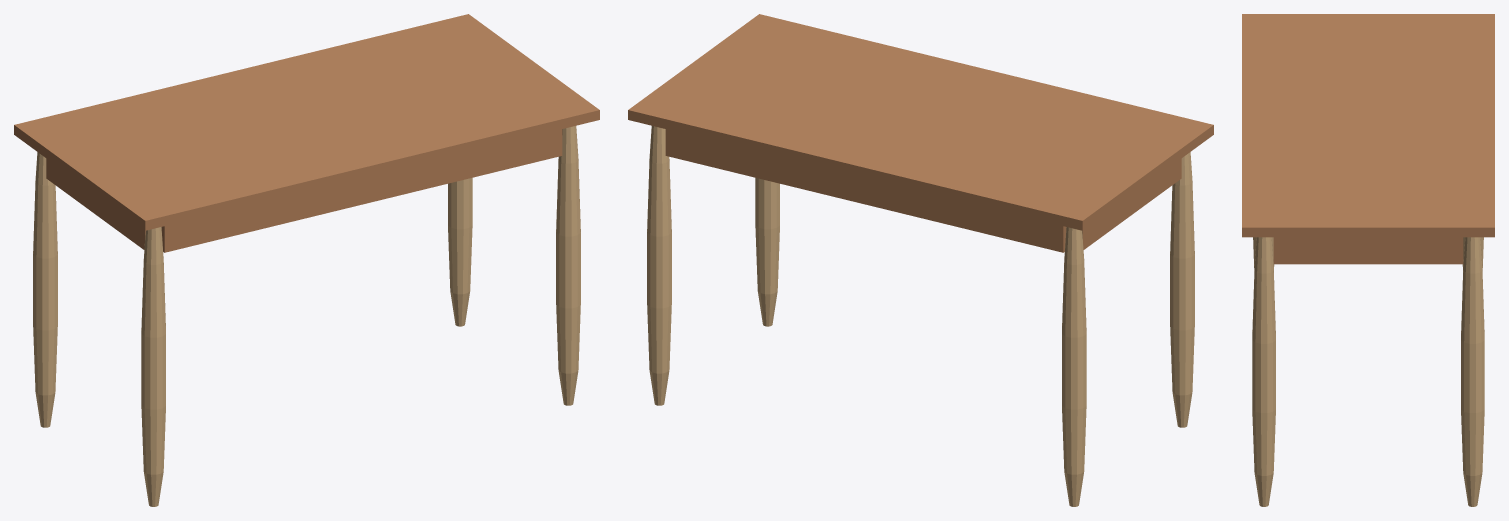
The model's file is CAL-DSK-std.glb.
3 views of the same model, side by side, from view 1: azimuth 30°, elevation 25°; view 2: azimuth 150°, elevation 25°; view 3: azimuth 270°, elevation 25° (orthographic). The views are drawn at different scales.
Parts seen in each view (by area): view 1: top:pbr, apron-f:pbr, leg-fl:pbr, leg-fr:pbr, leg-bl:pbr, leg-br:pbr, apron-l:pbr; view 2: top:pbr, apron-b:pbr, leg-bl:pbr, leg-br:pbr, leg-fl:pbr, leg-fr:pbr, apron-l:pbr; view 3: top:pbr, leg-fr:pbr, leg-br:pbr, apron-r:pbr.
Part boxes in pixels (x1,y1,x2,y2): top:pbr: (14,14,599,230); apron-f:pbr: (161,129,562,252); leg-fl:pbr: (141,227,165,506); leg-fr:pbr: (556,126,580,405); leg-bl:pbr: (33,152,57,427); leg-br:pbr: (448,177,472,326); apron-l:pbr: (46,158,145,249); top:pbr: (628,14,1213,230); apron-b:pbr: (665,129,1066,252); leg-bl:pbr: (1062,227,1086,506); leg-br:pbr: (647,126,671,405); leg-fl:pbr: (1170,152,1194,427); leg-fr:pbr: (755,177,779,326); apron-l:pbr: (1082,158,1181,249); top:pbr: (1242,14,1494,237); leg-fr:pbr: (1252,237,1275,506); leg-br:pbr: (1461,237,1484,506); apron-r:pbr: (1273,237,1463,264).
Size of the model in its own units: 1.2 by 0.75 by 0.6.
